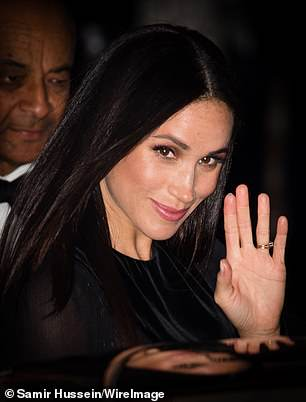open_hand: (208, 182, 295, 331)
